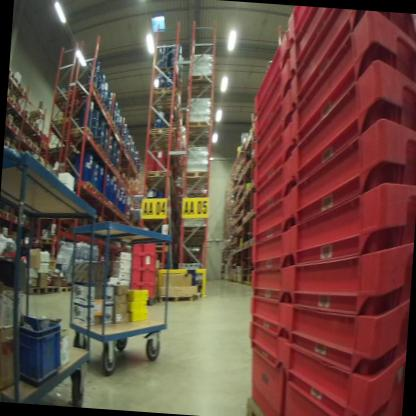pallet: (240, 391, 281, 416), (153, 58, 187, 82), (143, 121, 178, 144), (150, 81, 182, 106), (145, 163, 176, 187), (157, 291, 199, 308), (51, 86, 79, 109), (74, 76, 99, 101), (184, 166, 212, 187), (184, 115, 212, 135), (24, 279, 47, 303), (187, 72, 213, 89), (68, 177, 96, 191), (71, 126, 95, 140), (52, 116, 73, 132), (19, 145, 43, 159), (39, 234, 60, 249), (31, 106, 47, 124), (13, 112, 33, 124), (9, 96, 24, 112), (44, 282, 62, 295), (21, 121, 41, 132), (8, 87, 30, 97), (6, 210, 21, 224), (17, 137, 34, 148), (11, 76, 24, 90), (94, 93, 106, 108), (60, 284, 76, 295), (8, 68, 19, 83), (0, 208, 11, 221), (5, 119, 15, 131), (13, 127, 23, 138), (20, 220, 32, 228), (36, 130, 43, 136)
small_load_carrier: (250, 18, 416, 188), (256, 4, 403, 155), (252, 120, 416, 254), (249, 173, 410, 275), (242, 316, 406, 409), (245, 286, 407, 376), (253, 223, 413, 313), (248, 350, 405, 416), (246, 8, 333, 121), (256, 7, 308, 80), (14, 315, 63, 383), (136, 275, 159, 301), (126, 263, 144, 286), (140, 246, 157, 270), (127, 233, 144, 256), (142, 266, 160, 287), (143, 238, 162, 252), (130, 278, 142, 297), (130, 250, 141, 269)
